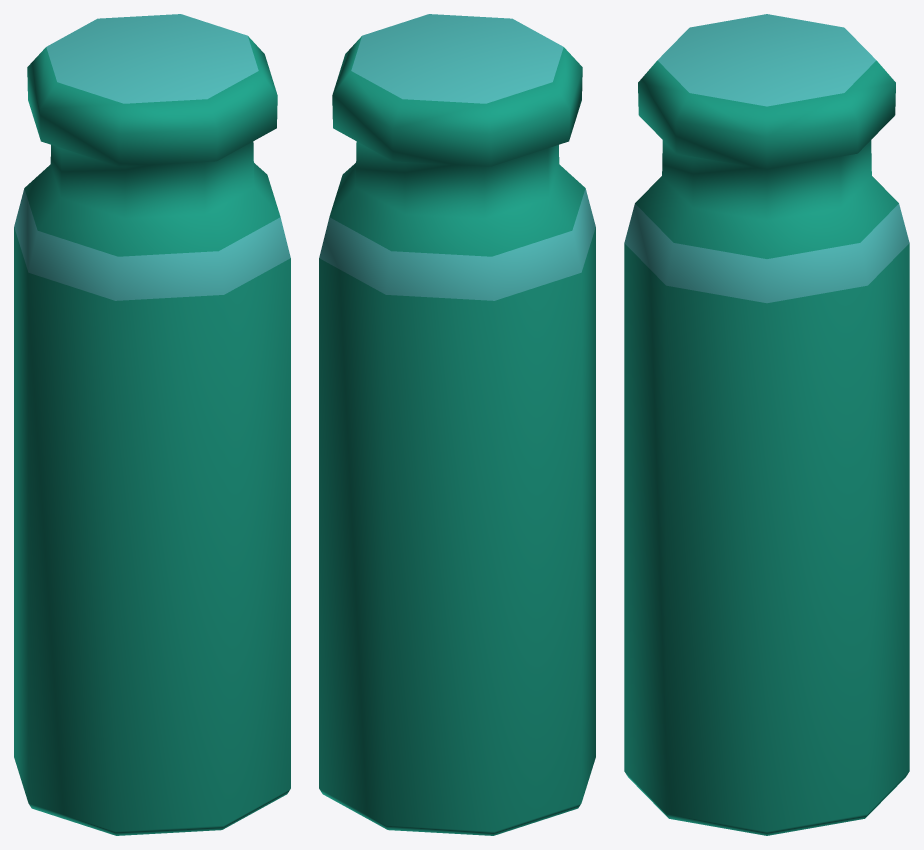
File: SM_Drink_3.fbx
3 renders of one model, left to right at view 1: azimuth 30°, elevation 25°; view 2: azimuth 150°, elevation 25°; view 3: azimuth 270°, elevation 25°, orthographic.
Parts seen in each view (by area): view 1: SM_Drink_3; view 2: SM_Drink_3; view 3: SM_Drink_3.
Part boxes in pixels (left/top/right/bottom): SM_Drink_3: left=14, top=14, right=290, bottom=835; SM_Drink_3: left=319, top=14, right=595, bottom=835; SM_Drink_3: left=624, top=14, right=909, bottom=835.
Size of the model in its own units: 7.52 by 7.52 by 20.86.
